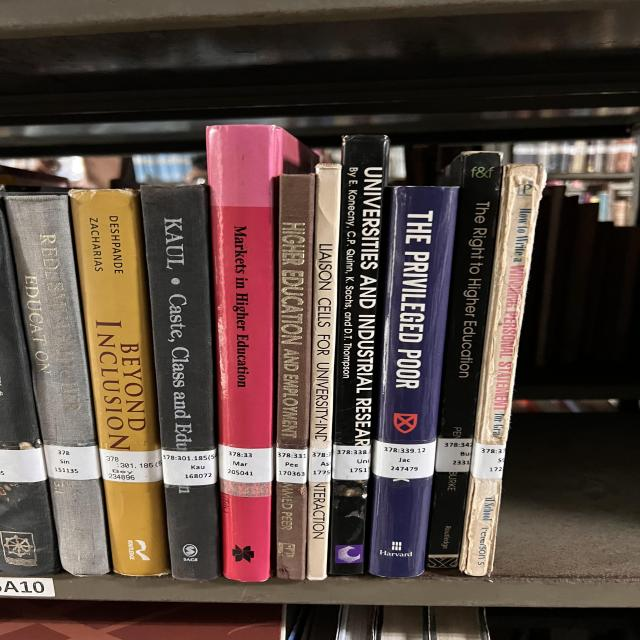Book: (207, 125, 317, 581), (5, 195, 110, 575), (70, 190, 168, 575), (368, 186, 458, 578), (460, 165, 545, 576), (140, 185, 220, 580), (427, 151, 502, 569), (328, 135, 388, 575), (0, 208, 60, 575), (275, 175, 313, 579), (307, 164, 340, 580)
Label: (373, 441, 437, 479), (218, 445, 273, 484), (100, 449, 162, 482), (43, 445, 100, 480), (162, 450, 217, 486), (0, 448, 47, 482), (332, 445, 372, 480), (470, 442, 505, 479), (435, 438, 473, 472), (277, 448, 308, 484), (308, 448, 332, 482)
